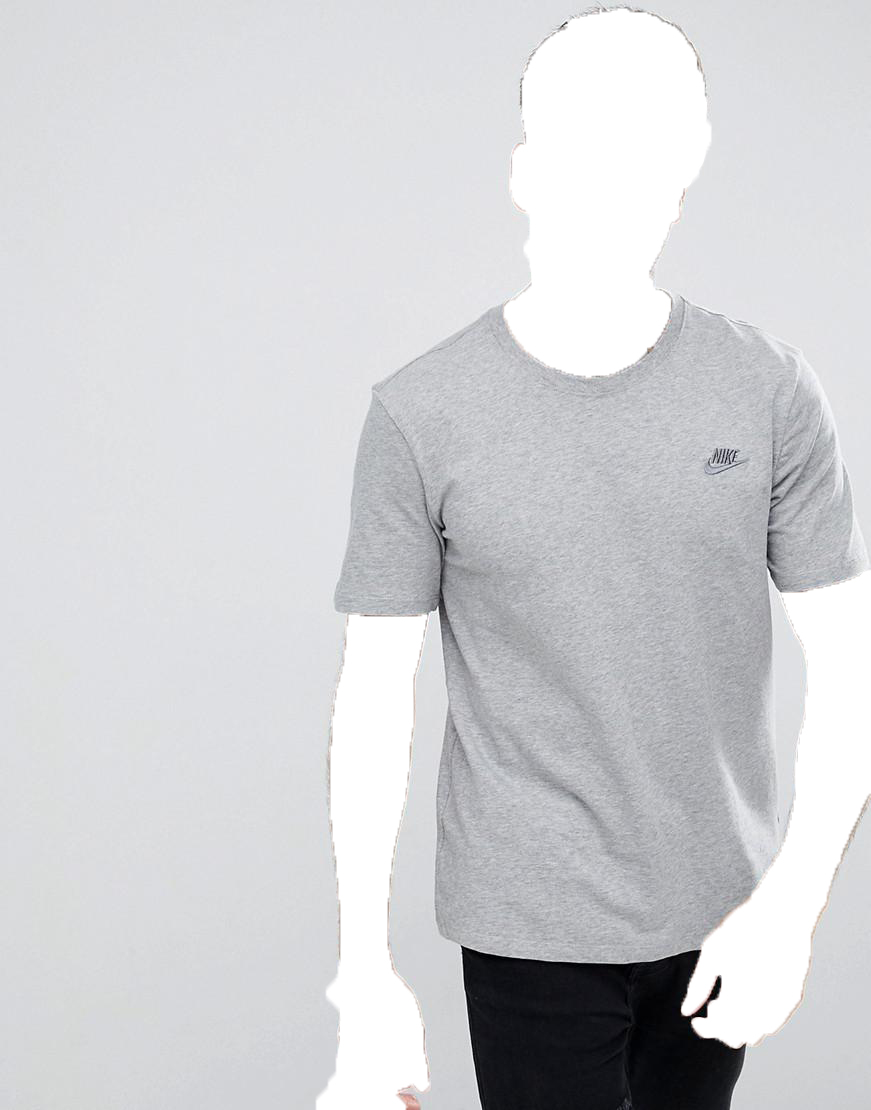teeshirt: (329, 285, 871, 975)
